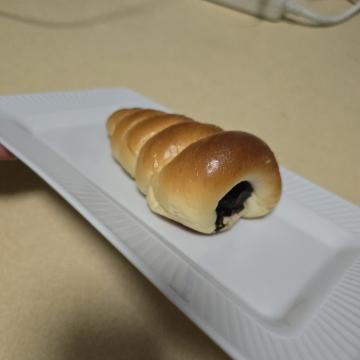cream horn: (86, 67, 246, 266)
